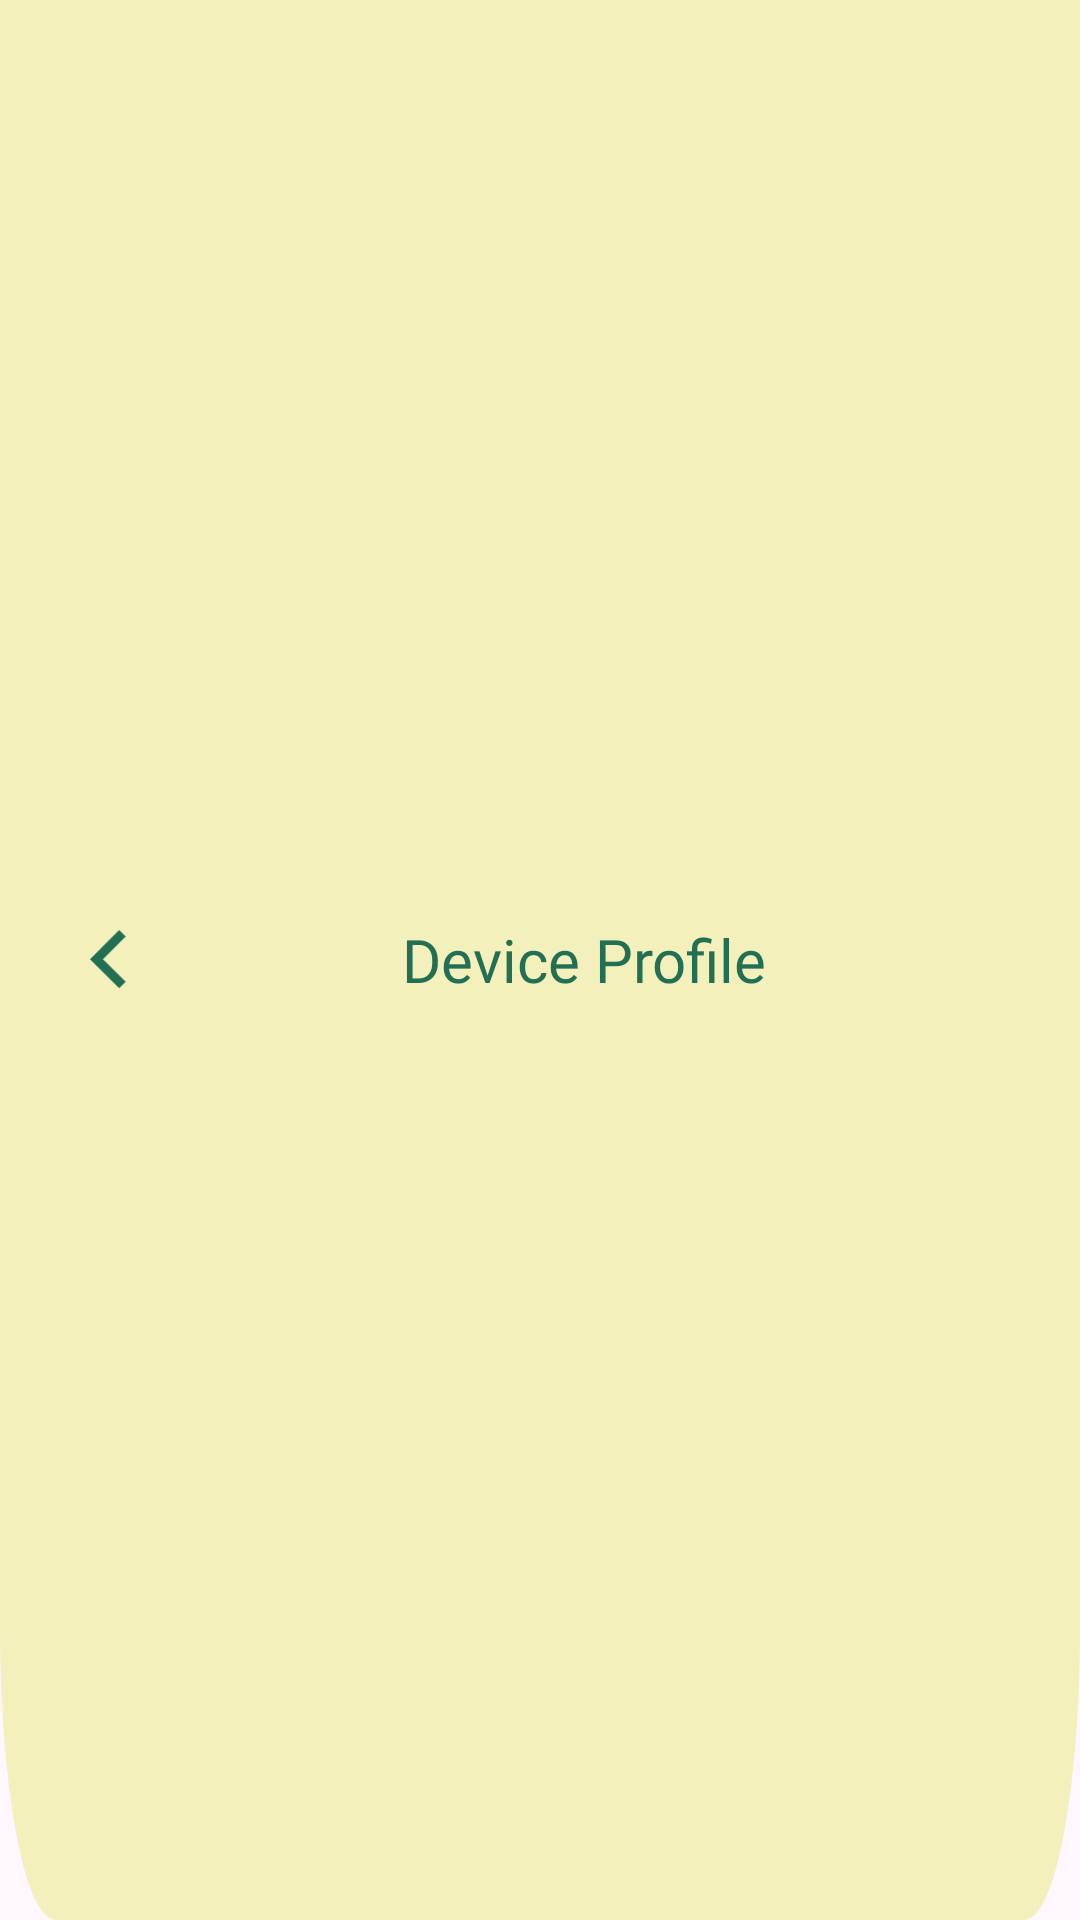

Where to tap for icons on this 1080px x 1920px app screen, as [x,y]:
back inverted: [108,959]
